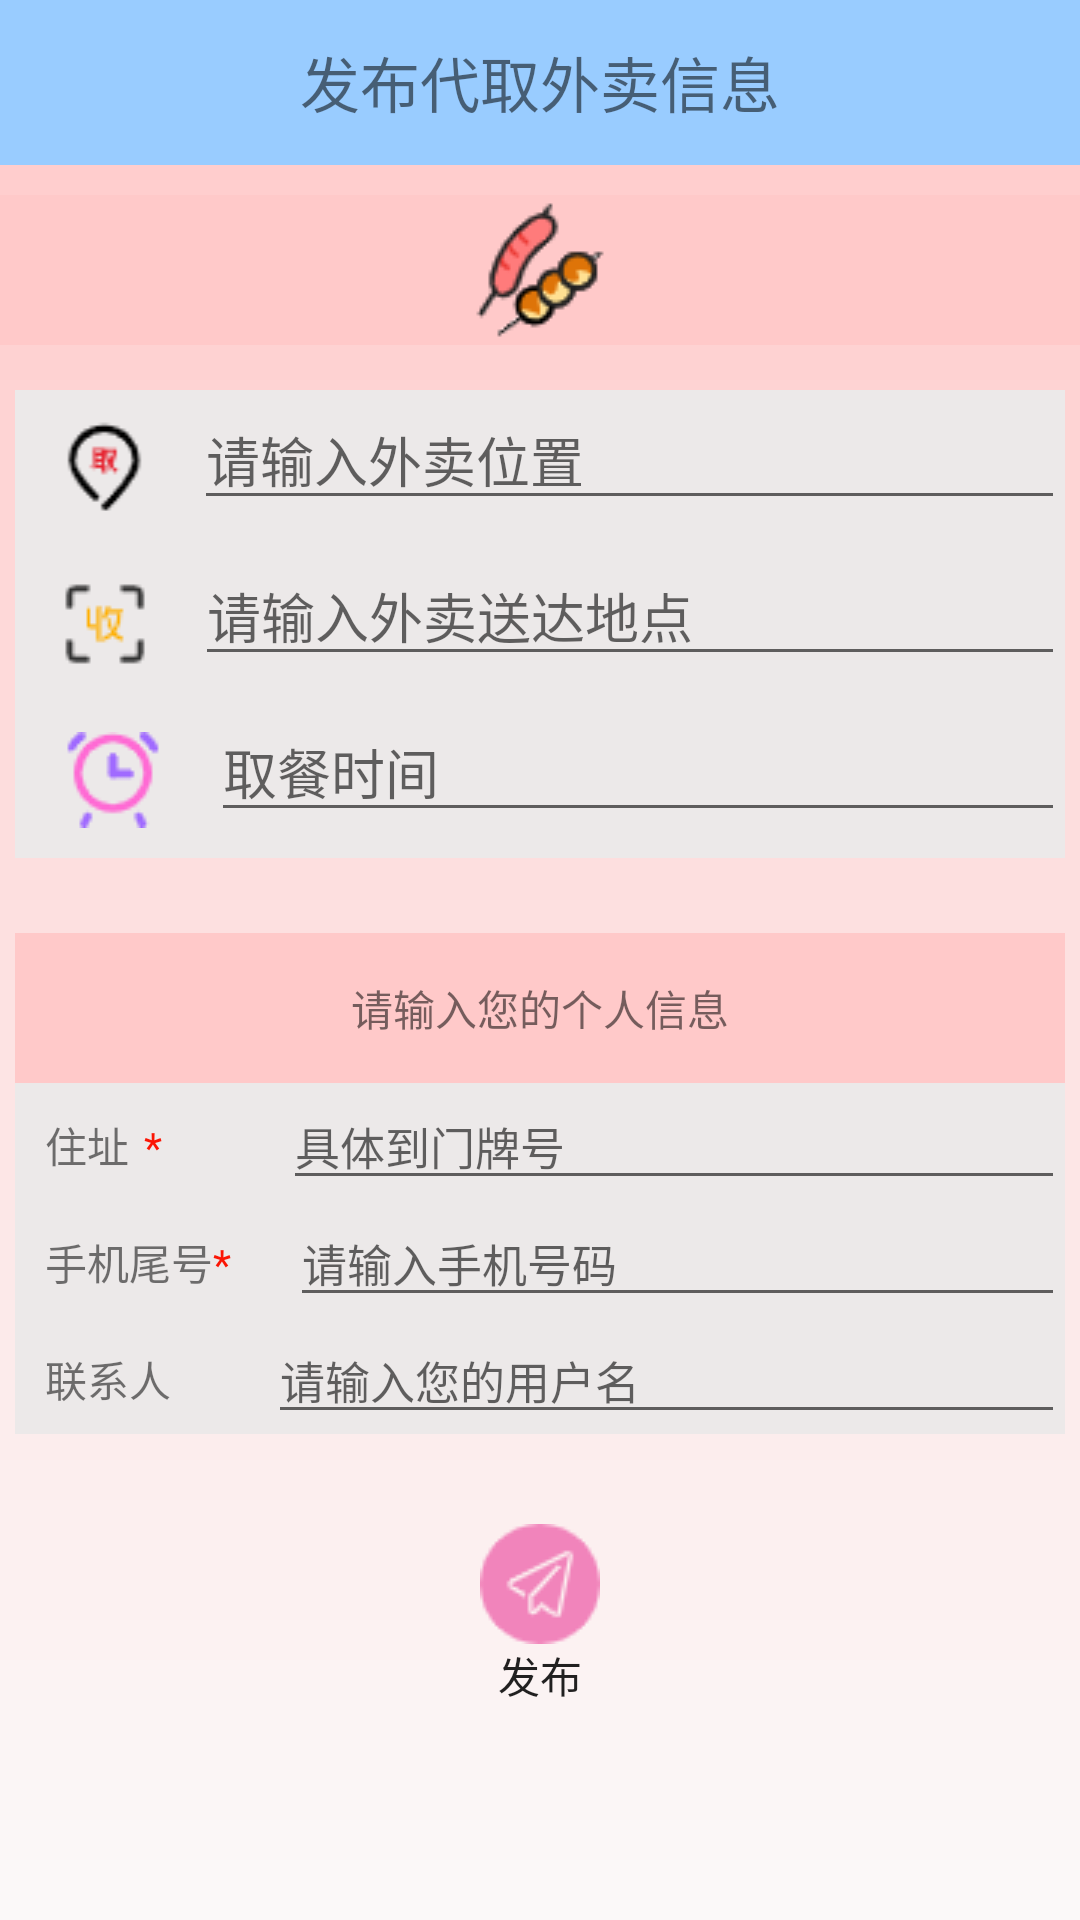

Icons on this 1080*1920 Android screen, each with the point to tap as point (x, y):
eat: point (540, 270)
time: point (113, 780)
